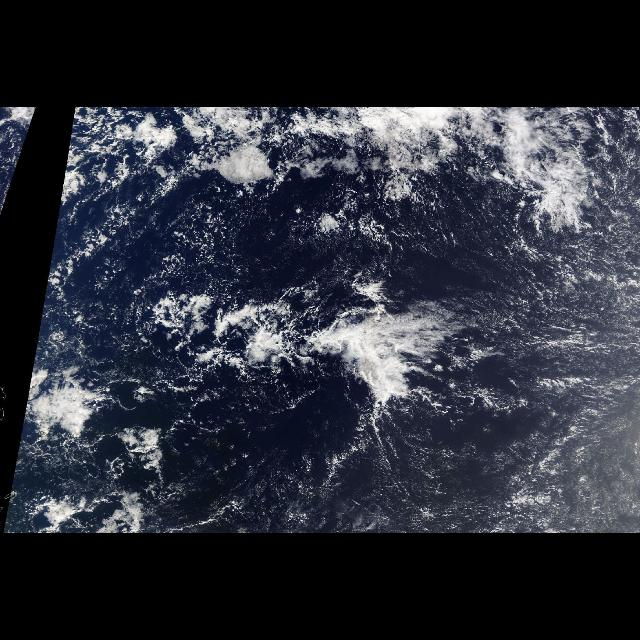Fish: (110, 250, 498, 458)
Flower: (82, 409, 188, 526)
Gravel: (80, 111, 482, 522)
Sugar: (176, 155, 640, 532)
